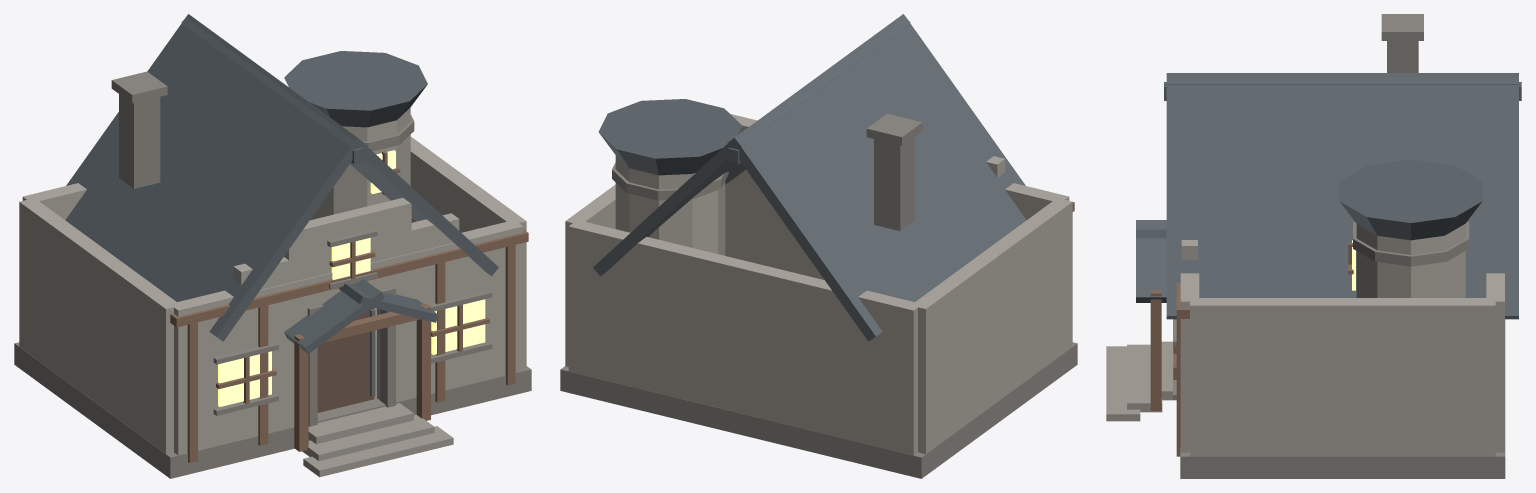
Rendered from Midgard_Hero_House_V1_YUP.glb.
3 views of the same model, side by side, from view 1: azimuth 30°, elevation 25°; view 2: azimuth 150°, elevation 25°; view 3: azimuth 270°, elevation 25° (orthographic). The views are drawn at different scales.
Parts seen in each view (by area): view 1: Roof_L, LeftWall, FrontWall_L, FrontWall_R, Foundation, TowerRoof, RightWall, Roof_R, DoorRecess, GableTop, GableMid, Chimney (+23 smaller); view 2: BackWall, Roof_L, LeftWall, Foundation, TowerRoof, FrontWall_R, TowerBody, Roof_R, Chimney, RightWall, ChimneyCap, FrontWall_L (+1 smaller); view 3: Roof_R, RightWall, TowerRoof, Foundation, TowerBody, Roof_L, PorchRoof_R, BackWall, FrontWall_R, Step_2, Step_1, TowerBand (+5 smaller).
Part boxes in pixels (x1=…): Roof_L: x1=65, y1=14, x2=364, y2=341; LeftWall: x1=19, y1=198, x2=180, y2=453; FrontWall_L: x1=173, y1=277, x2=315, y2=455; FrontWall_R: x1=377, y1=220, x2=523, y2=402; Foundation: x1=14, y1=308, x2=531, y2=478; TowerRoof: x1=284, y1=51, x2=427, y2=127; RightWall: x1=410, y1=136, x2=526, y2=366; Roof_R: x1=181, y1=14, x2=498, y2=276; DoorRecess: x1=317, y1=307, x2=374, y2=412; GableTop: x1=284, y1=197, x2=411, y2=261; GableMid: x1=233, y1=213, x2=459, y2=289; Chimney: x1=119, y1=94, x2=160, y2=188; BackWall: x1=568, y1=220, x2=920, y2=455; Roof_L: x1=727, y1=14, x2=1026, y2=341; LeftWall: x1=911, y1=198, x2=1072, y2=453; Foundation: x1=560, y1=342, x2=1077, y2=478; TowerRoof: x1=598, y1=99, x2=742, y2=175; FrontWall_R: x1=725, y1=114, x2=824, y2=279; TowerBody: x1=615, y1=155, x2=725, y2=255; Roof_R: x1=593, y1=14, x2=910, y2=276; Chimney: x1=874, y1=136, x2=915, y2=230; RightWall: x1=565, y1=184, x2=615, y2=366; ChimneyCap: x1=866, y1=113, x2=922, y2=145; FrontWall_L: x1=1005, y1=183, x2=1069, y2=219; Roof_R: x1=1166, y1=73, x2=1518, y2=319; RightWall: x1=1190, y1=298, x2=1495, y2=456; TowerRoof: x1=1339, y1=159, x2=1482, y2=240; Foundation: x1=1180, y1=319, x2=1505, y2=478; TowerBody: x1=1356, y1=224, x2=1465, y2=297; Roof_L: x1=1166, y1=77, x2=1518, y2=84; PorchRoof_R: x1=1136, y1=220, x2=1166, y2=302; BackWall: x1=1486, y1=273, x2=1504, y2=452; FrontWall_R: x1=1180, y1=273, x2=1199, y2=452; Step_2: x1=1106, y1=346, x2=1140, y2=421; Step_1: x1=1127, y1=344, x2=1162, y2=412; TowerBand: x1=1353, y1=222, x2=1469, y2=266.
Bounding box in the file's own units: 7.95 × 6.35 × 7.61.
